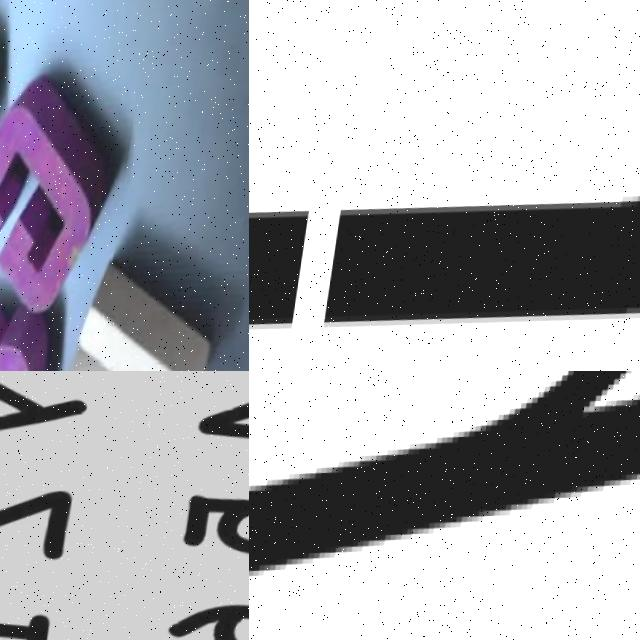1: (0, 583, 71, 640)
4: (182, 371, 249, 478)
5: (152, 471, 249, 585)
6: (140, 575, 249, 640)
G: (0, 63, 143, 328)
H: (44, 271, 230, 371)
J: (249, 104, 640, 364)
U: (249, 371, 640, 633)
